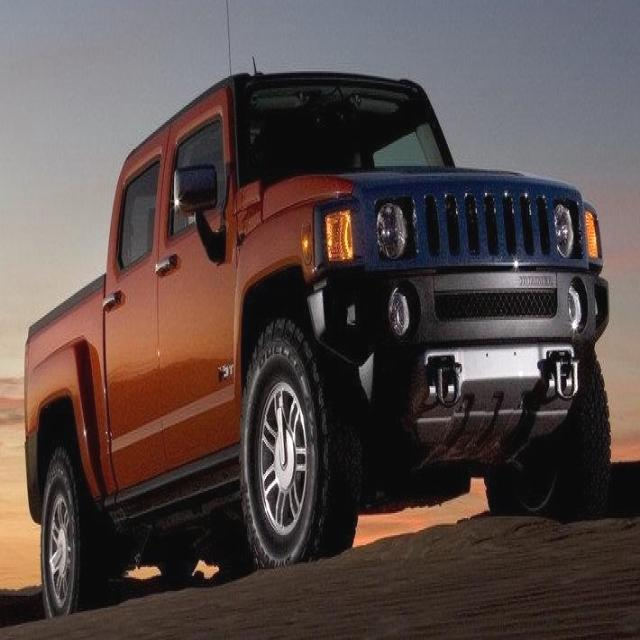CMT: (14, 60, 608, 632)
